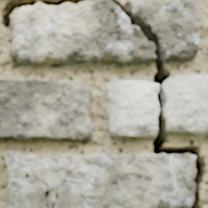brick: (5, 152, 194, 207), (0, 79, 93, 140)
broken_brick: (8, 0, 153, 65), (132, 0, 199, 61), (106, 80, 157, 139), (166, 73, 207, 135)
crack: (109, 0, 206, 207), (0, 0, 86, 28), (21, 167, 49, 207), (51, 174, 67, 207), (108, 109, 110, 125)
